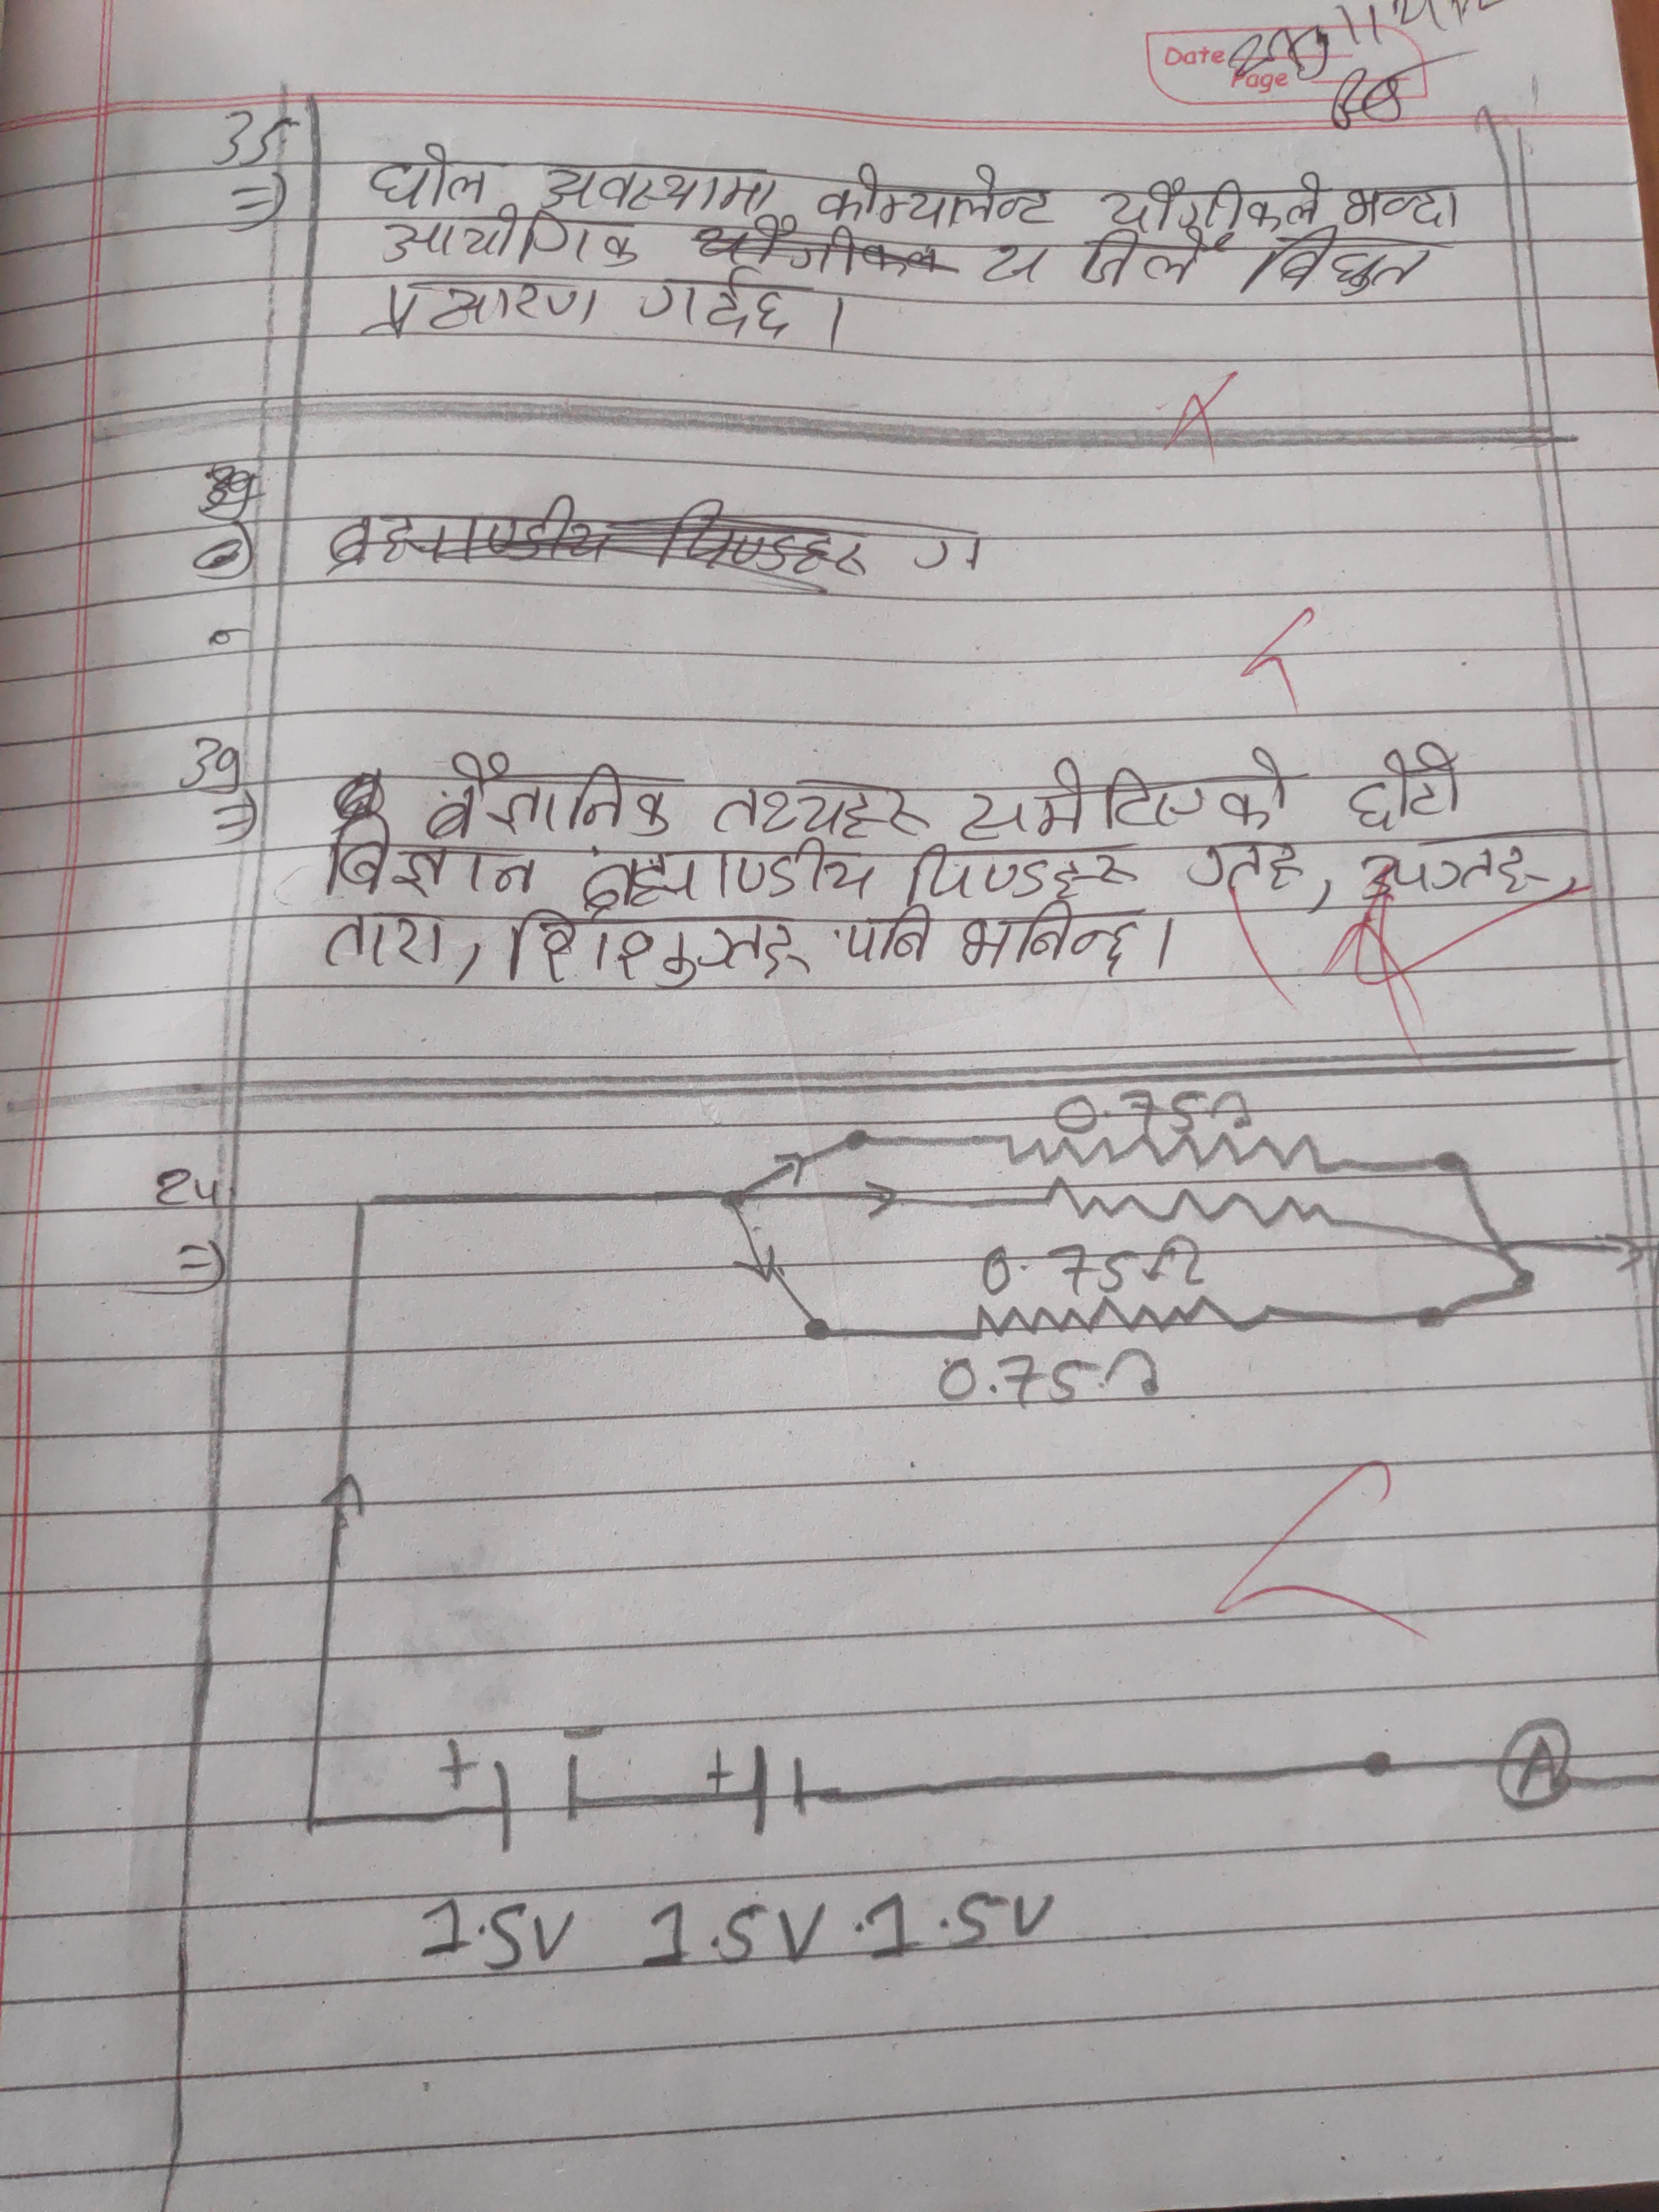text: (955, 745, 1288, 843), (490, 909, 823, 991), (427, 749, 678, 843), (579, 840, 885, 907), (816, 155, 1063, 233), (350, 268, 606, 341), (972, 225, 1230, 294), (319, 819, 538, 897), (709, 765, 931, 841), (535, 155, 781, 223), (955, 902, 1148, 982), (894, 834, 1138, 897), (1347, 829, 1554, 902), (1241, 223, 1436, 298), (1098, 171, 1328, 233), (638, 258, 805, 343), (378, 212, 648, 265), (1345, 737, 1469, 836), (317, 909, 455, 977), (366, 145, 493, 212), (1335, 174, 1466, 232), (1192, 840, 1321, 895), (840, 907, 934, 967)
